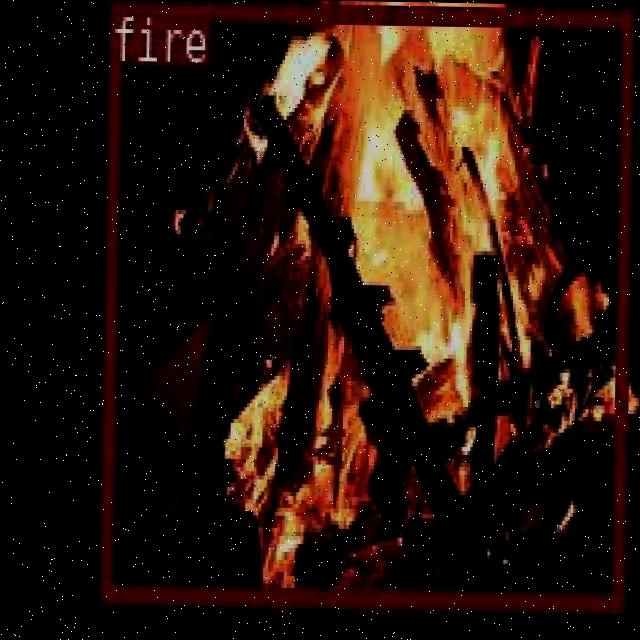fire: (98, 1, 632, 610)
